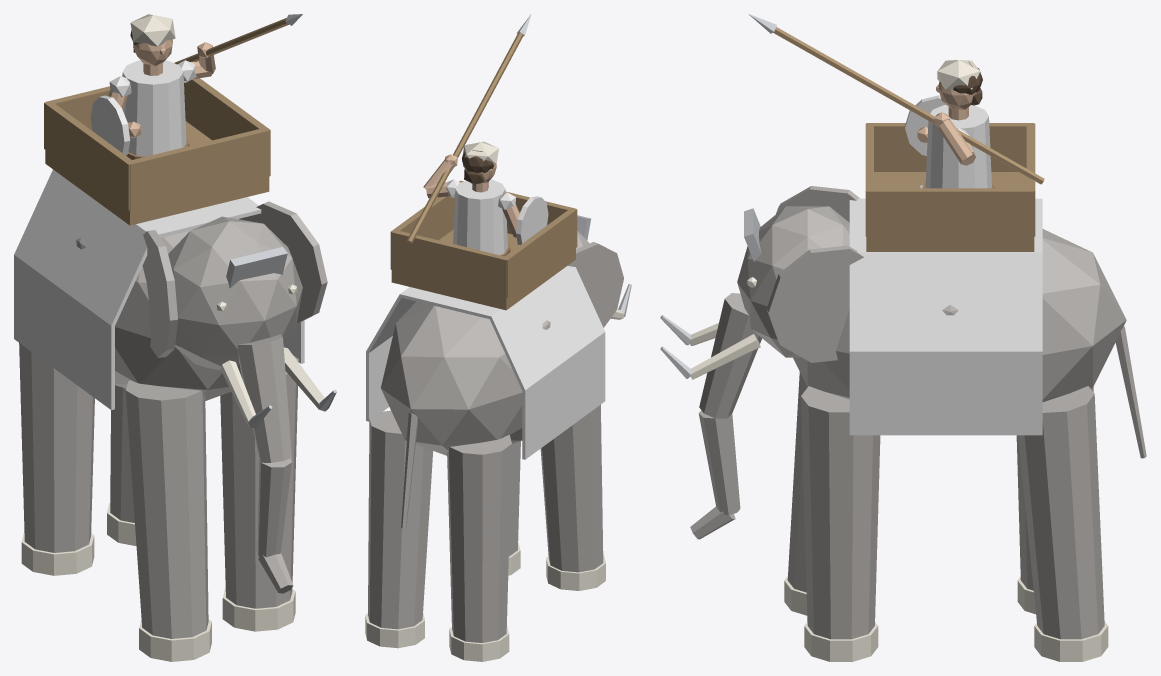
The model's file is civ_unit_war_elephant.glb.
3 renders of one model, left to right at view 1: azimuth 30°, elevation 25°; view 2: azimuth 150°, elevation 25°; view 3: azimuth 270°, elevation 25°, orthographic. The views are drawn at different scales.
Parts seen in each view (by area): view 1: civ_unit_war_elephant; view 2: civ_unit_war_elephant; view 3: civ_unit_war_elephant.
Boxes of the visible parts, box(x1,y1,x2,y2) form: civ_unit_war_elephant: box(14, 14, 336, 661); civ_unit_war_elephant: box(365, 14, 631, 661); civ_unit_war_elephant: box(660, 14, 1146, 661).
Bounding box in the file's own units: 1.32 × 4.15 × 2.9.
